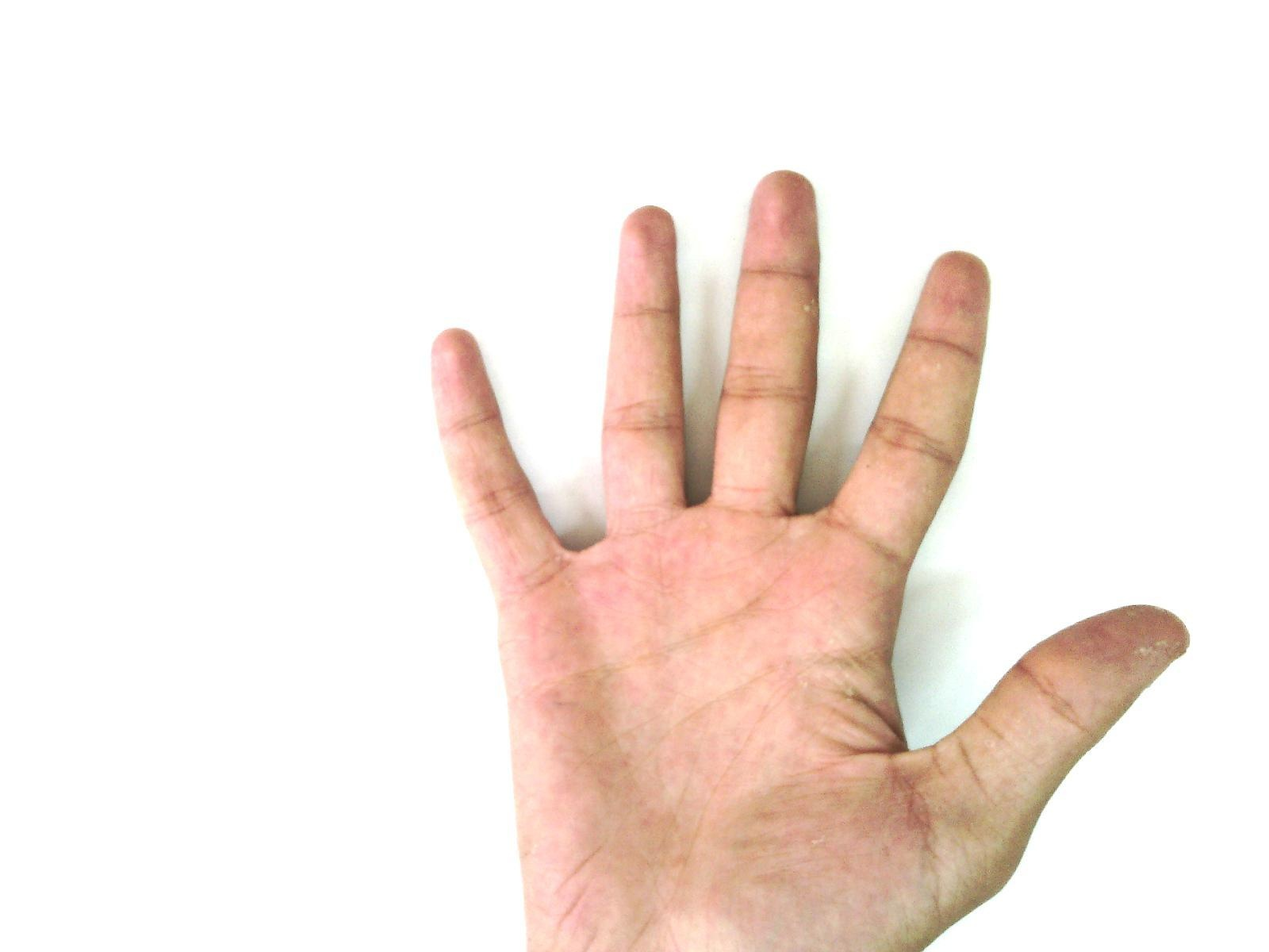open_palm: (426, 169, 1192, 952)
